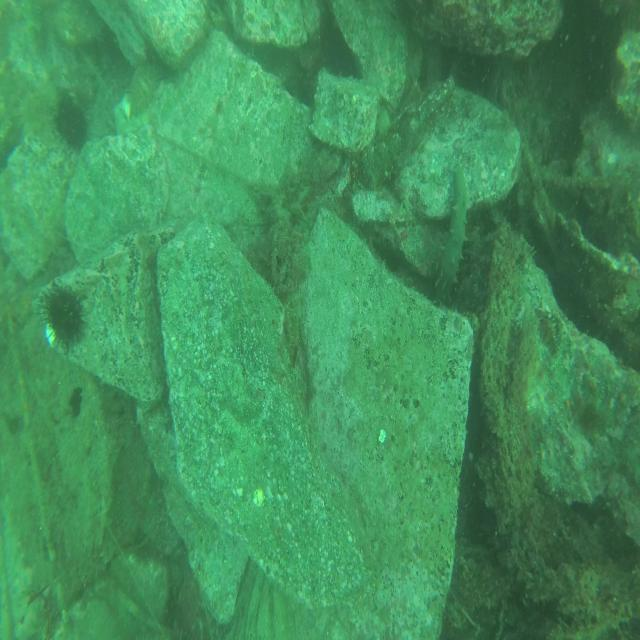echinus: (34, 284, 86, 350), (16, 86, 58, 143), (48, 95, 94, 145)
holothurian: (437, 162, 470, 312)
